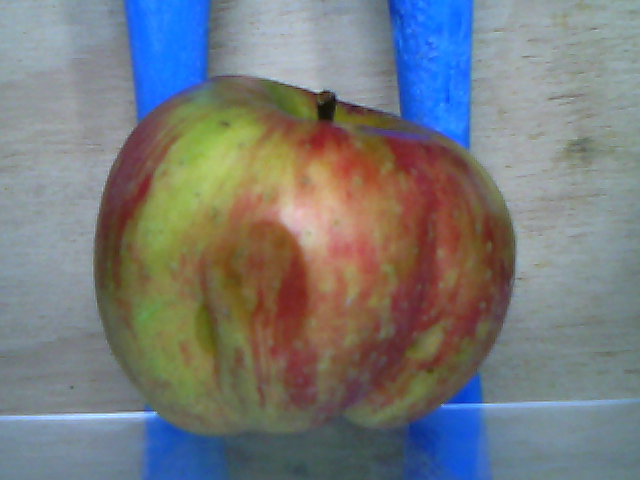bruise: (206, 220, 309, 352)
